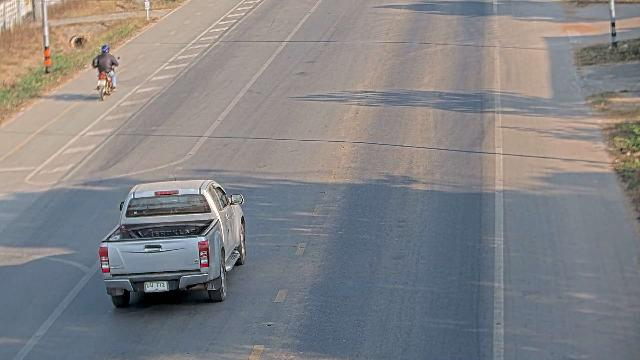motorcycle: (93, 46, 123, 102)
pickup-truck: (98, 177, 246, 308)
